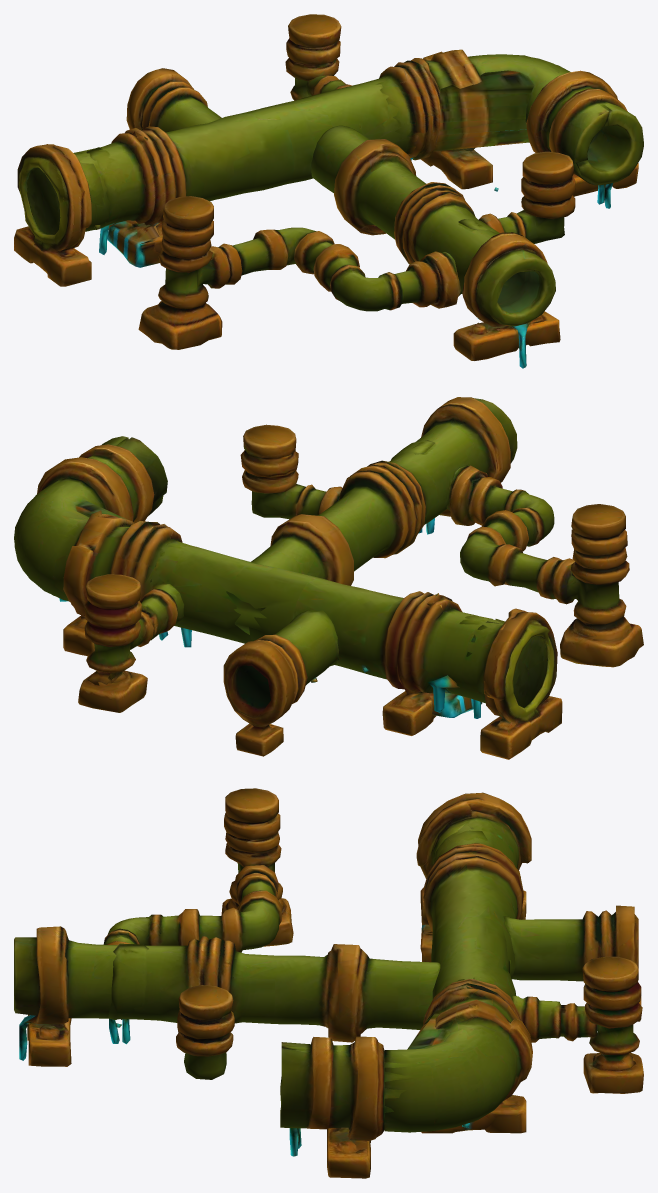
File: Verdant_Pipe_Crossroa.glb
3 renders of one model, top to bottom at view 1: azimuth 30°, elevation 25°; view 2: azimuth 150°, elevation 25°; view 3: azimuth 270°, elevation 25°, orthographic. The views are drawn at different scales.
Size of the model in its own units: 1.91 by 0.4658 by 1.84.
1 material, 1 textured.
